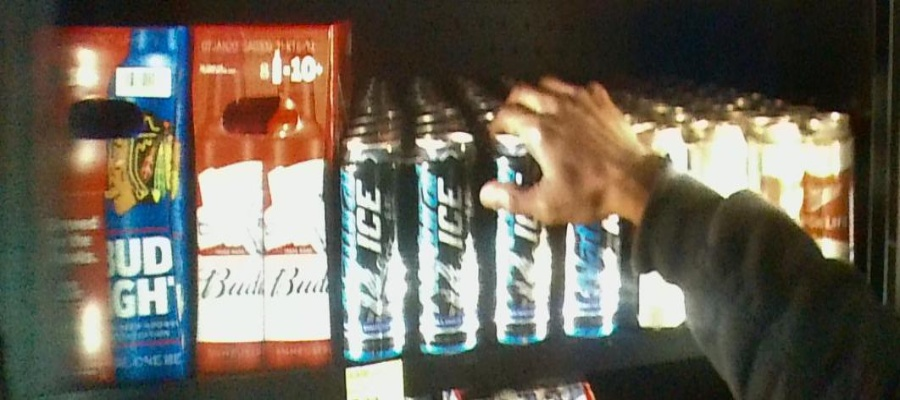bottle: (19, 20, 190, 381), (190, 17, 336, 371), (342, 143, 481, 354), (758, 133, 853, 216), (486, 225, 553, 341), (569, 226, 621, 335), (673, 133, 746, 187), (642, 275, 676, 324)
